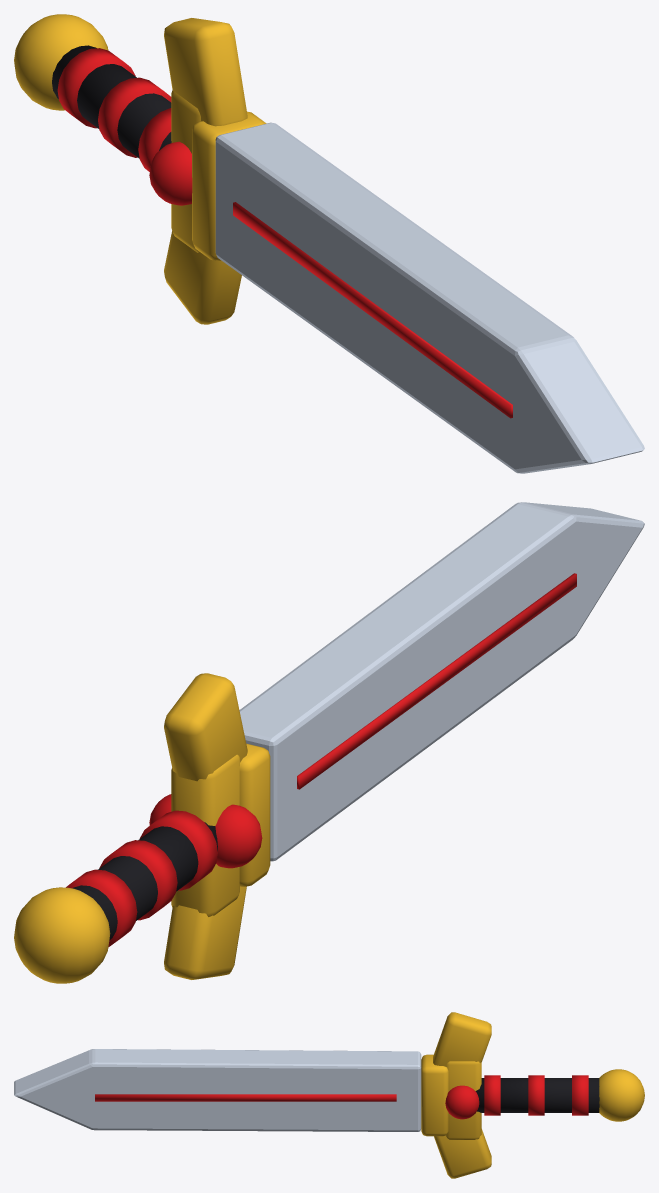
Rendered from sword.obj.
3 renders of one model, top to bottom at view 1: azimuth 30°, elevation 25°; view 2: azimuth 150°, elevation 25°; view 3: azimuth 270°, elevation 25°, orthographic. The views are drawn at different scales.
Bounding box in the file's own units: 0.12 × 0.3235 × 1.15.
